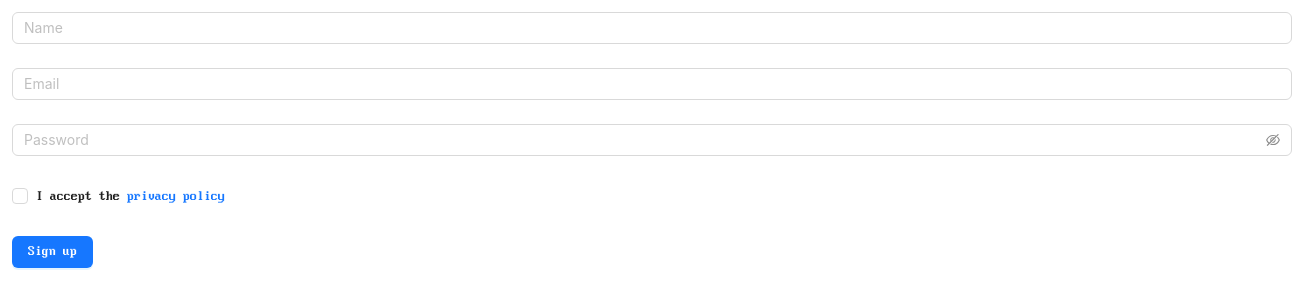
it: SignupForm › does not sign up before the privacy policy is accepted
Type "Jon" into the field with placeholder "Name" at (652, 28), box x1=12 y1=12 x2=1292 y2=44
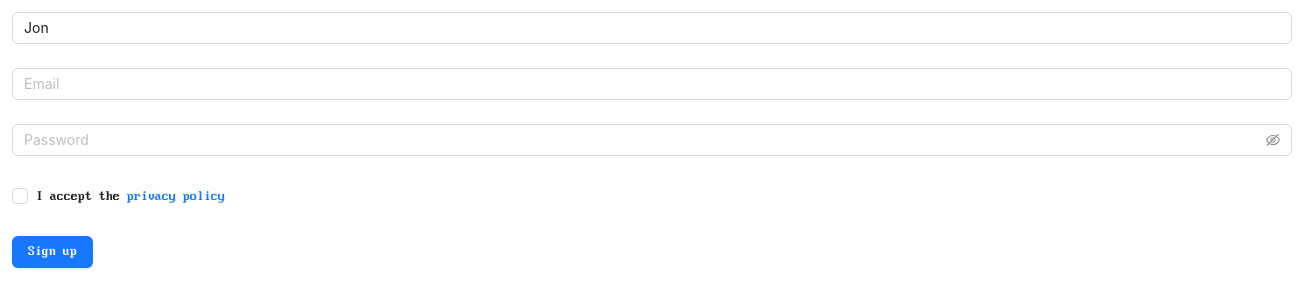
Type "a@b.co" into the field with placeholder "Email" at (652, 84), box x1=12 y1=68 x2=1292 y2=100
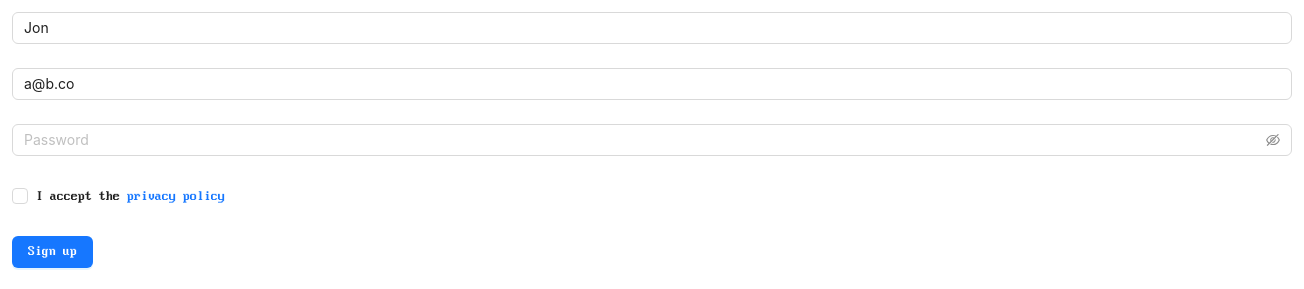
Type "Pa$$w0rd" into the password field with placeholder "Password" at (643, 140), box x1=24 y1=129 x2=1262 y2=151
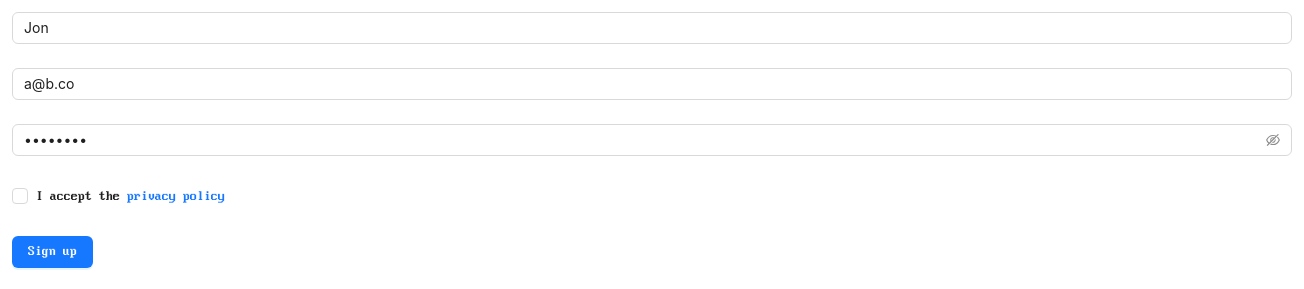
Click the button "Sign up" at (52, 252), box x1=12 y1=236 x2=93 y2=268
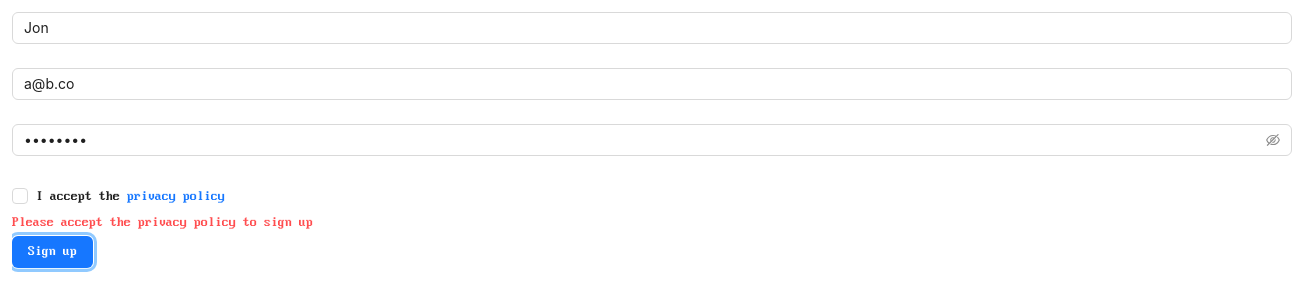
Now the text "Please accept the privacy policy to sign up" is shown, box x1=12 y1=217 x2=313 y2=229
